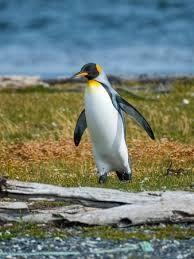king: (55, 56, 160, 189)
